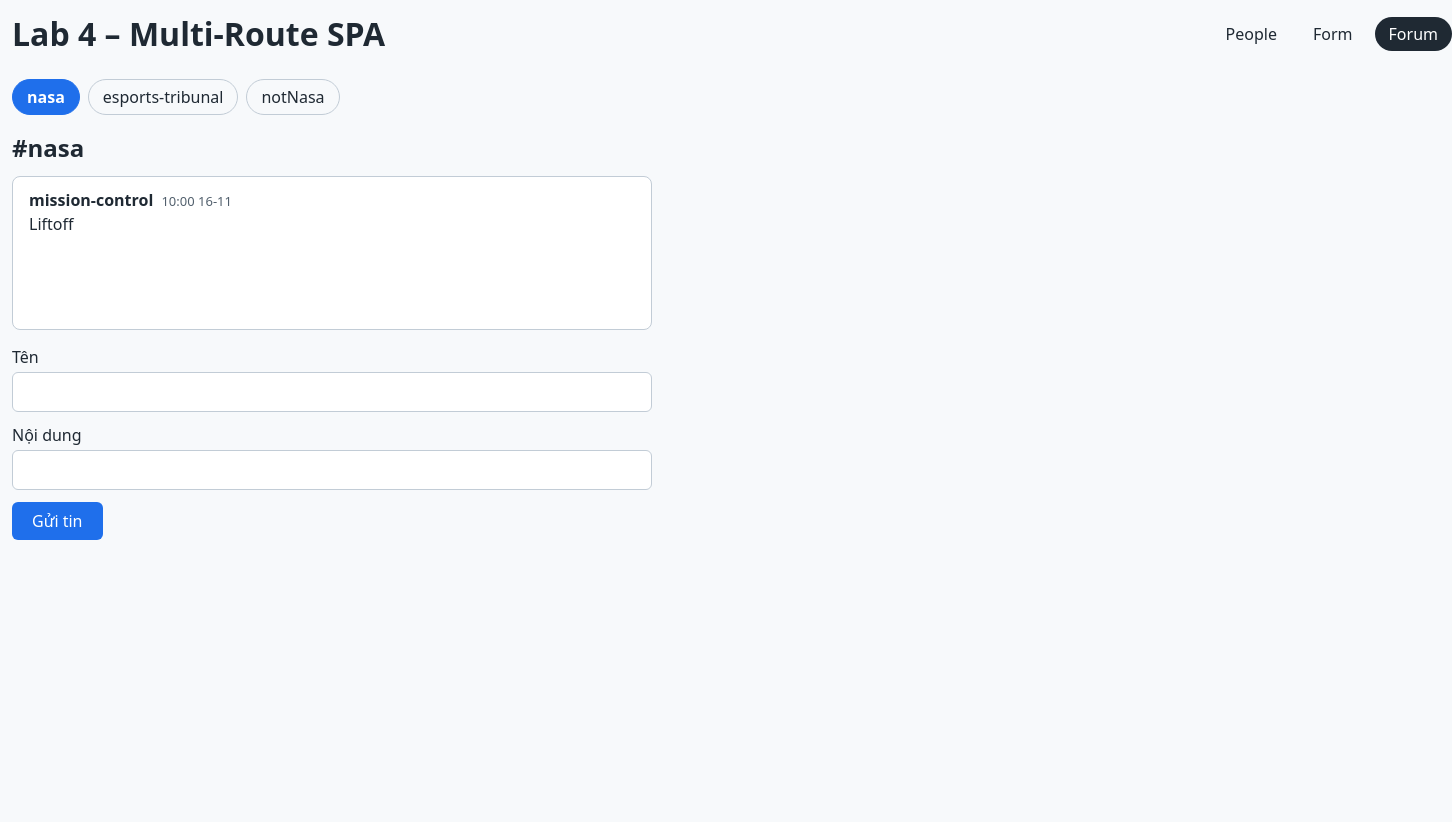
Test: /forum page › message form › shows the server error if the POST fails and keeps what the user typed
Type "tester" into the field labelled "Tên" at (332, 392), box [12, 372, 652, 412]
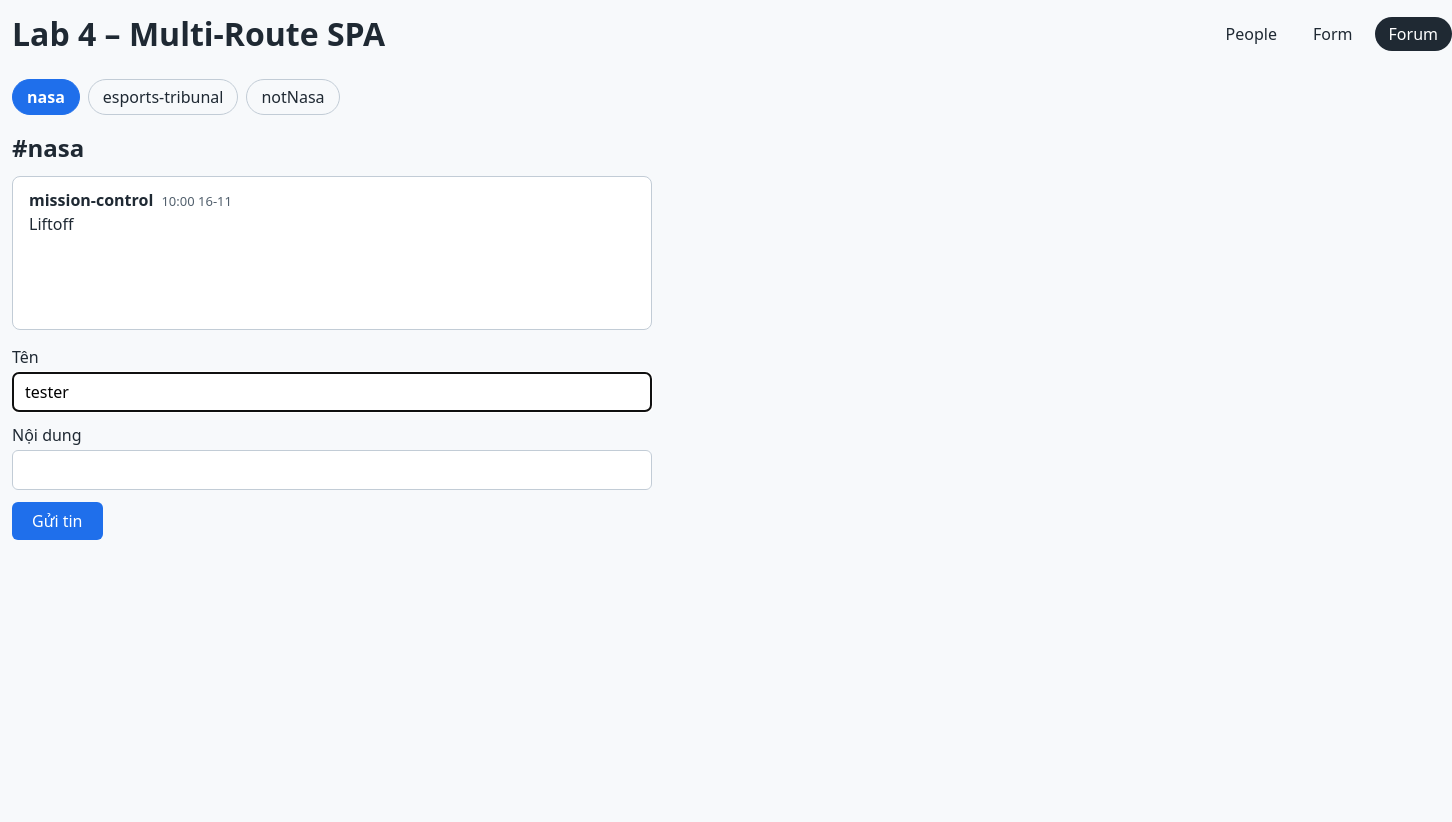
Type "boom" into the field labelled "Nội dung" at (332, 470), box [12, 450, 652, 490]
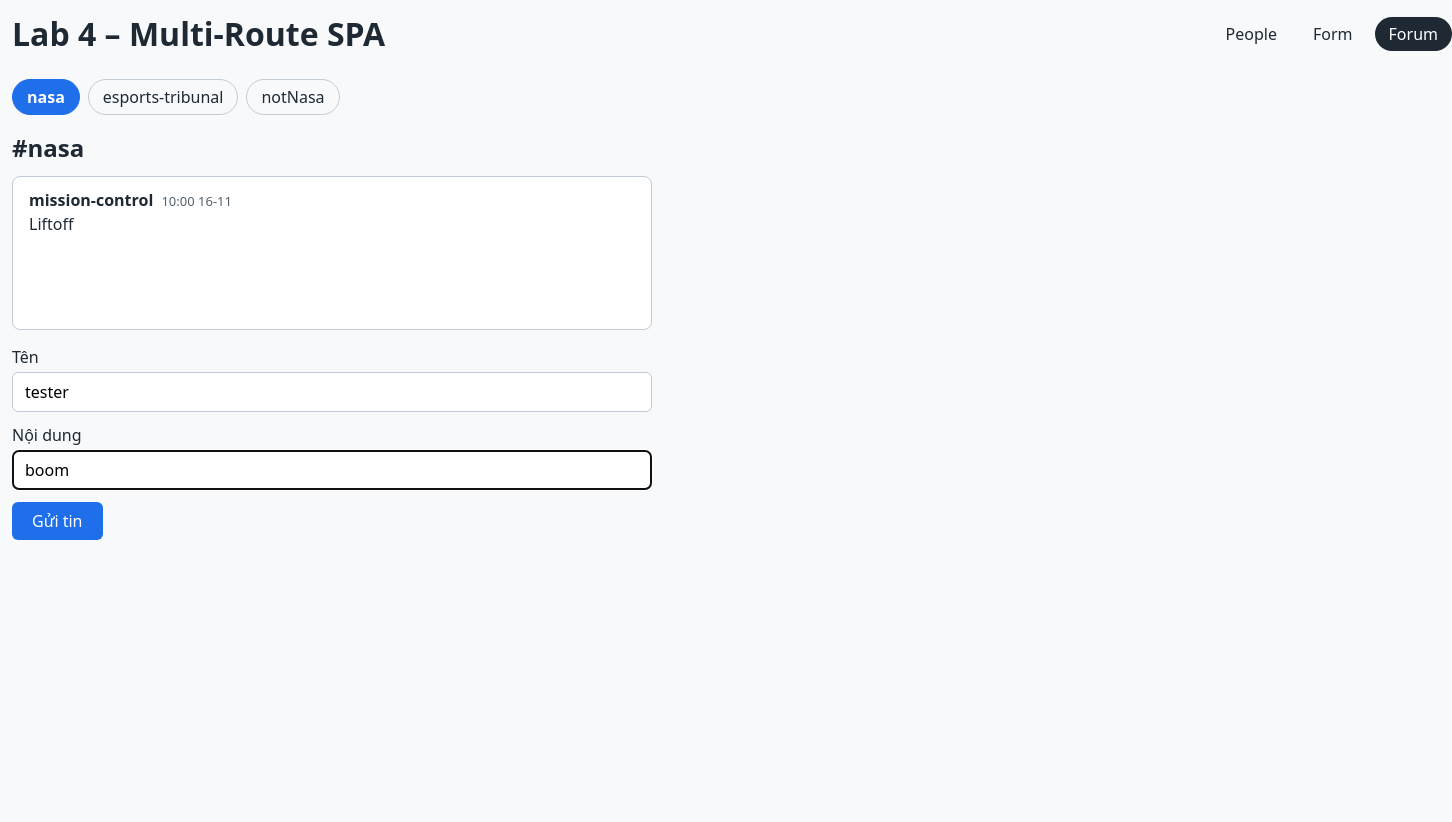
Click the button "Gửi tin" at (57, 521), box [12, 502, 102, 540]
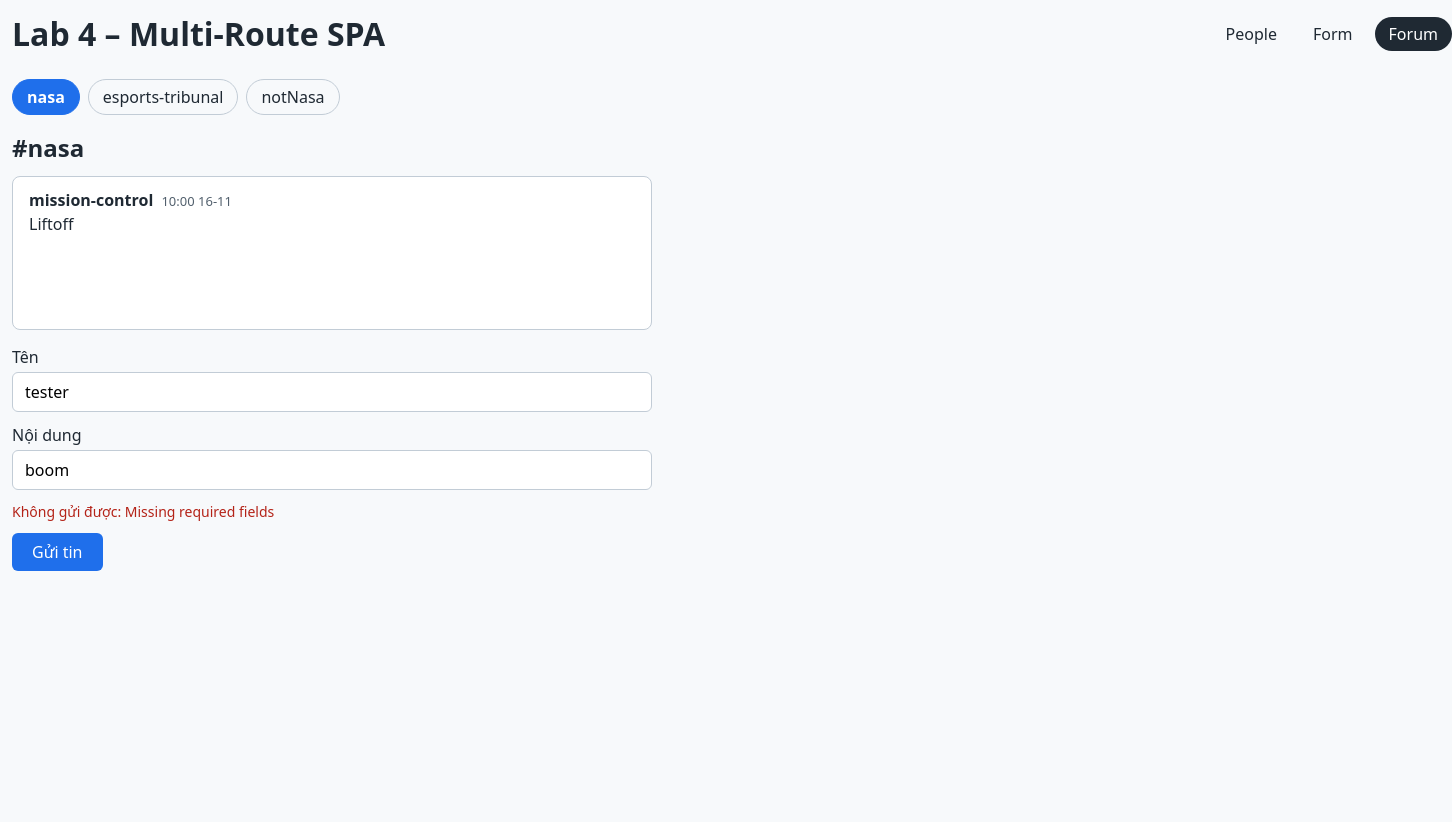
expect the button "Gửi tin" is enabled: met, box [12, 533, 102, 571]
expect the message shows "Missing required fields": met, box [125, 502, 274, 521]
